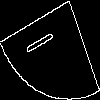I: (25, 25, 61, 56)
